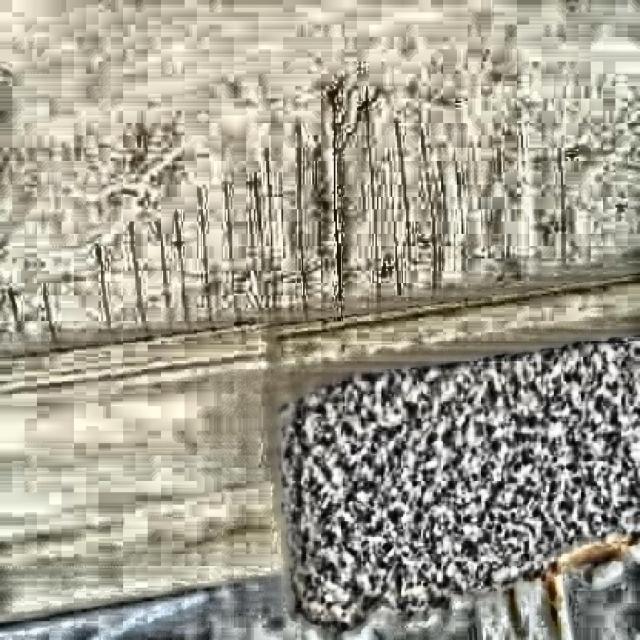crack: (329, 92, 344, 315)
